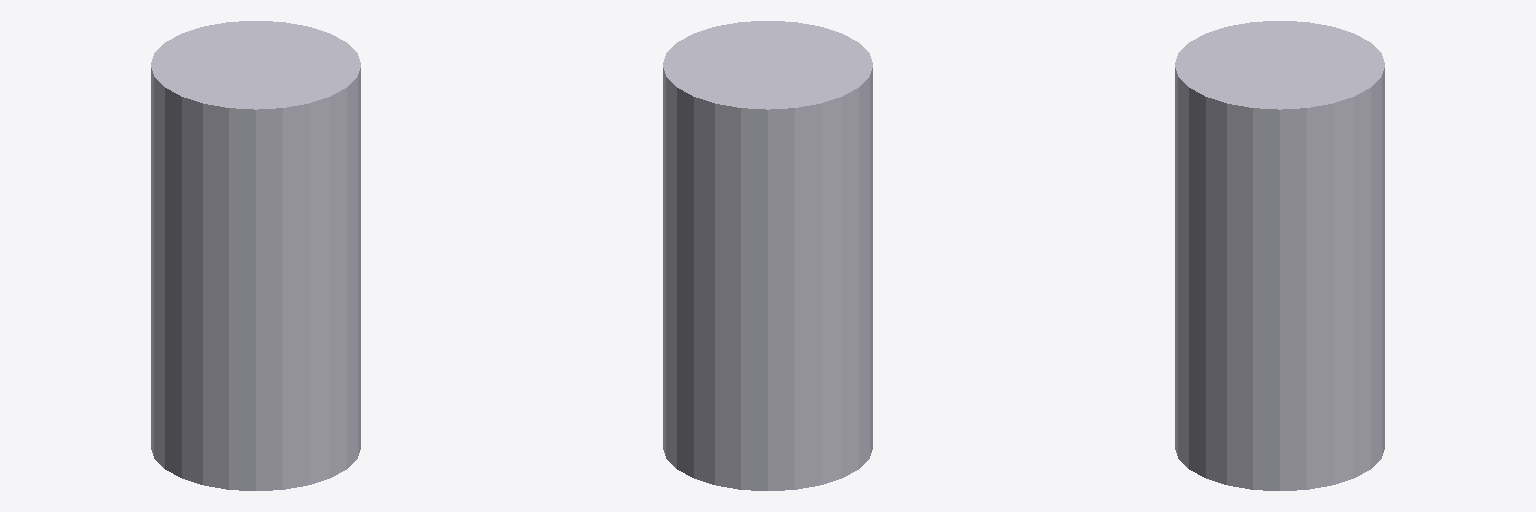
The model's file is pillar.obj.
The picture shows the model from 3 angles: view 1: azimuth 30°, elevation 25°; view 2: azimuth 150°, elevation 25°; view 3: azimuth 270°, elevation 25°; orthographic projection.
Size of the model in its own units: 1 by 2 by 1.